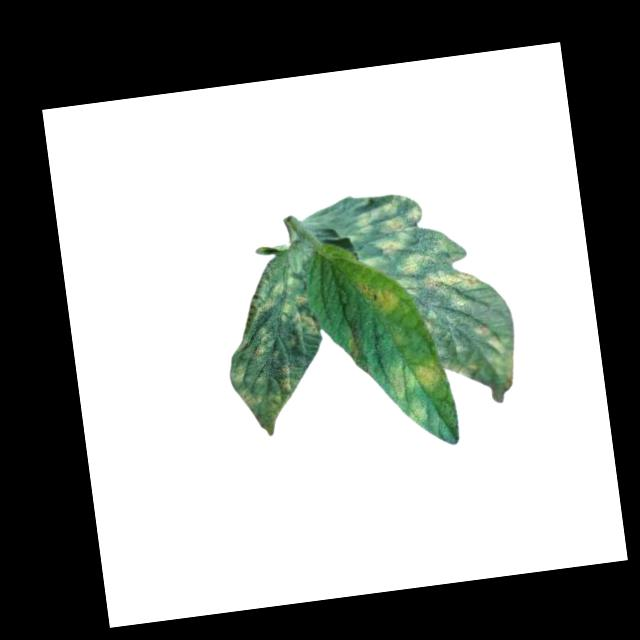Leaf_Mold: (350, 180, 517, 398), (215, 255, 336, 443), (356, 272, 403, 325), (386, 355, 441, 398), (406, 397, 431, 431)
